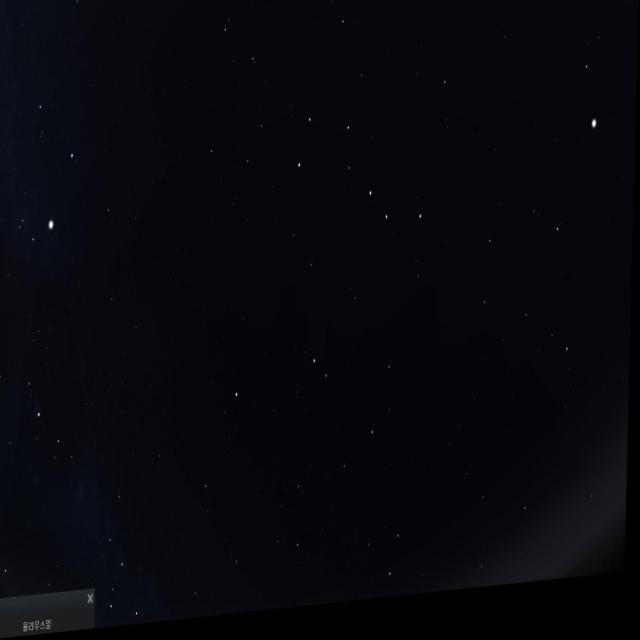cassiopeia: (100, 481, 156, 631)
ursa_major: (292, 104, 430, 265)
